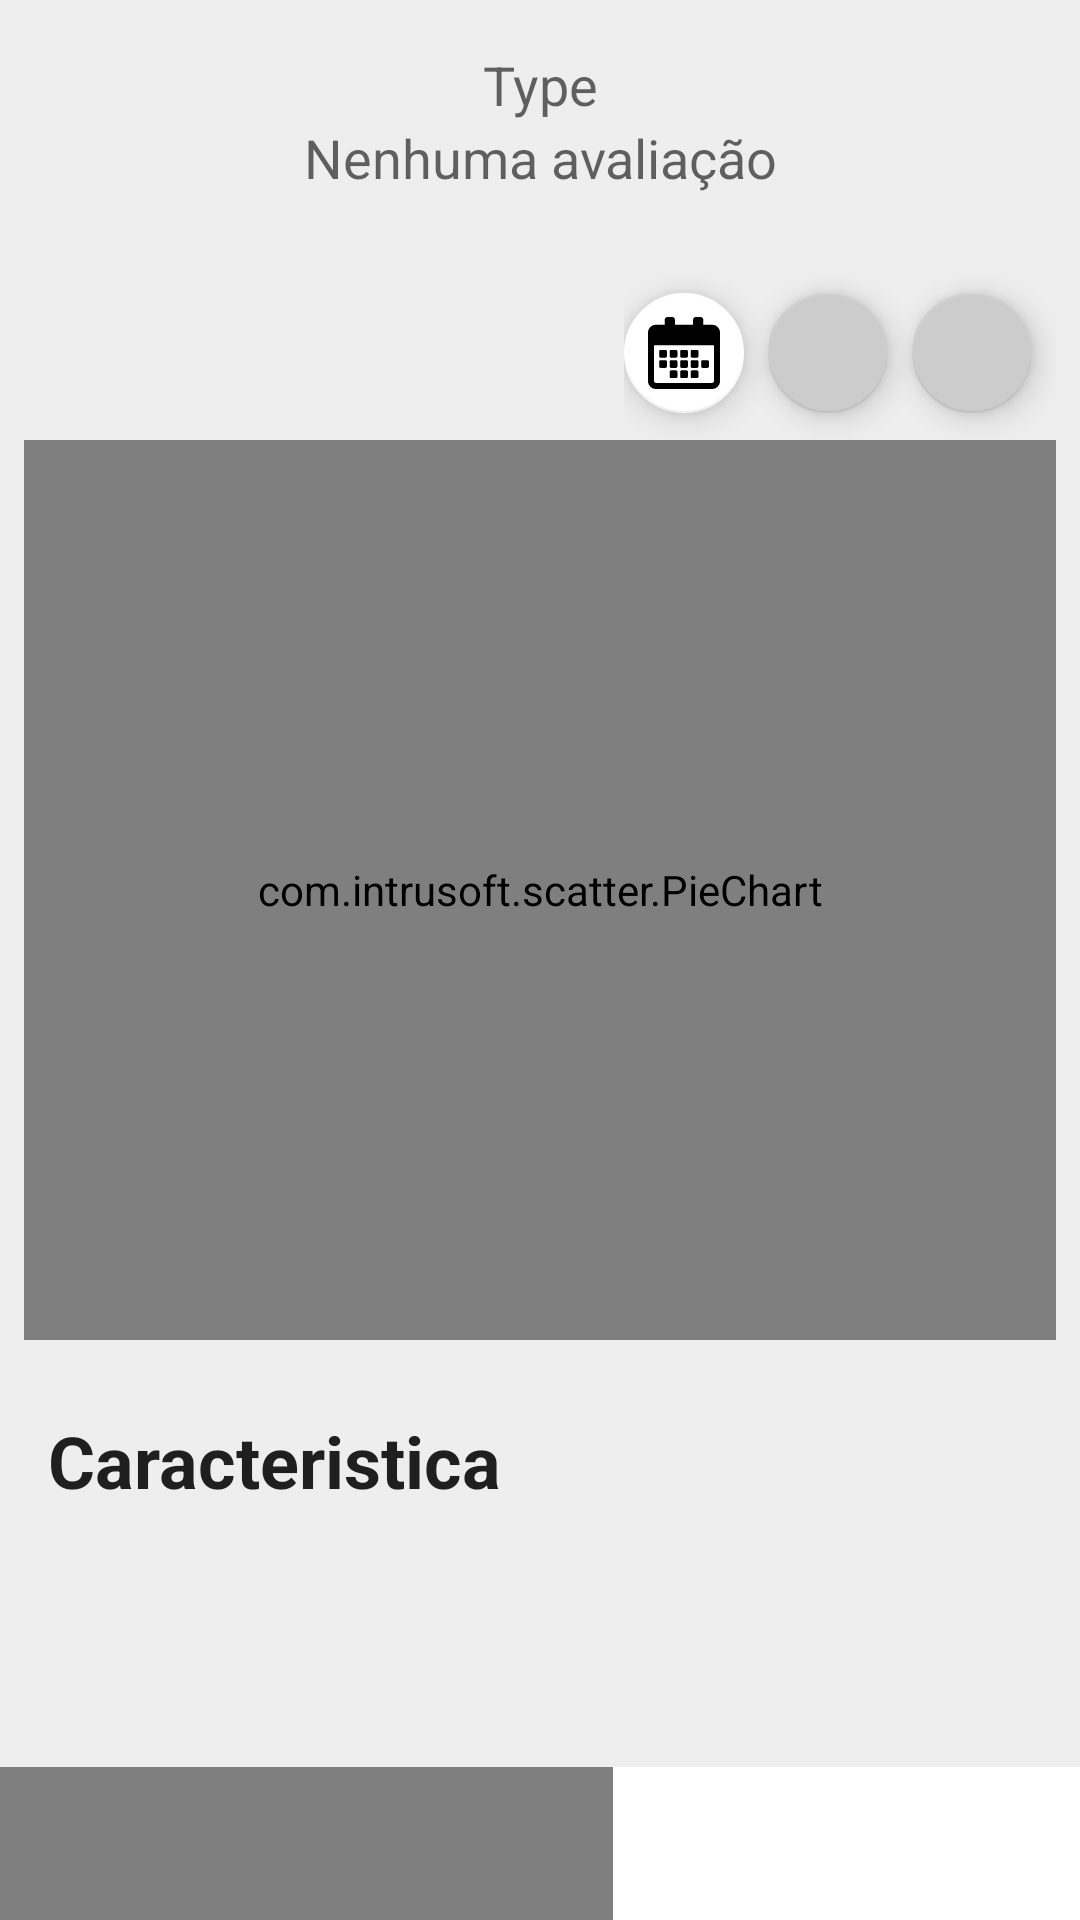

Icon bounding boxes for this 1080x1920 phone screenshot, format (x1, y1, x2, y2):
calendar: (624, 293, 744, 413)
